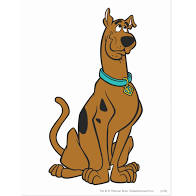scooby: (49, 7, 143, 185)
